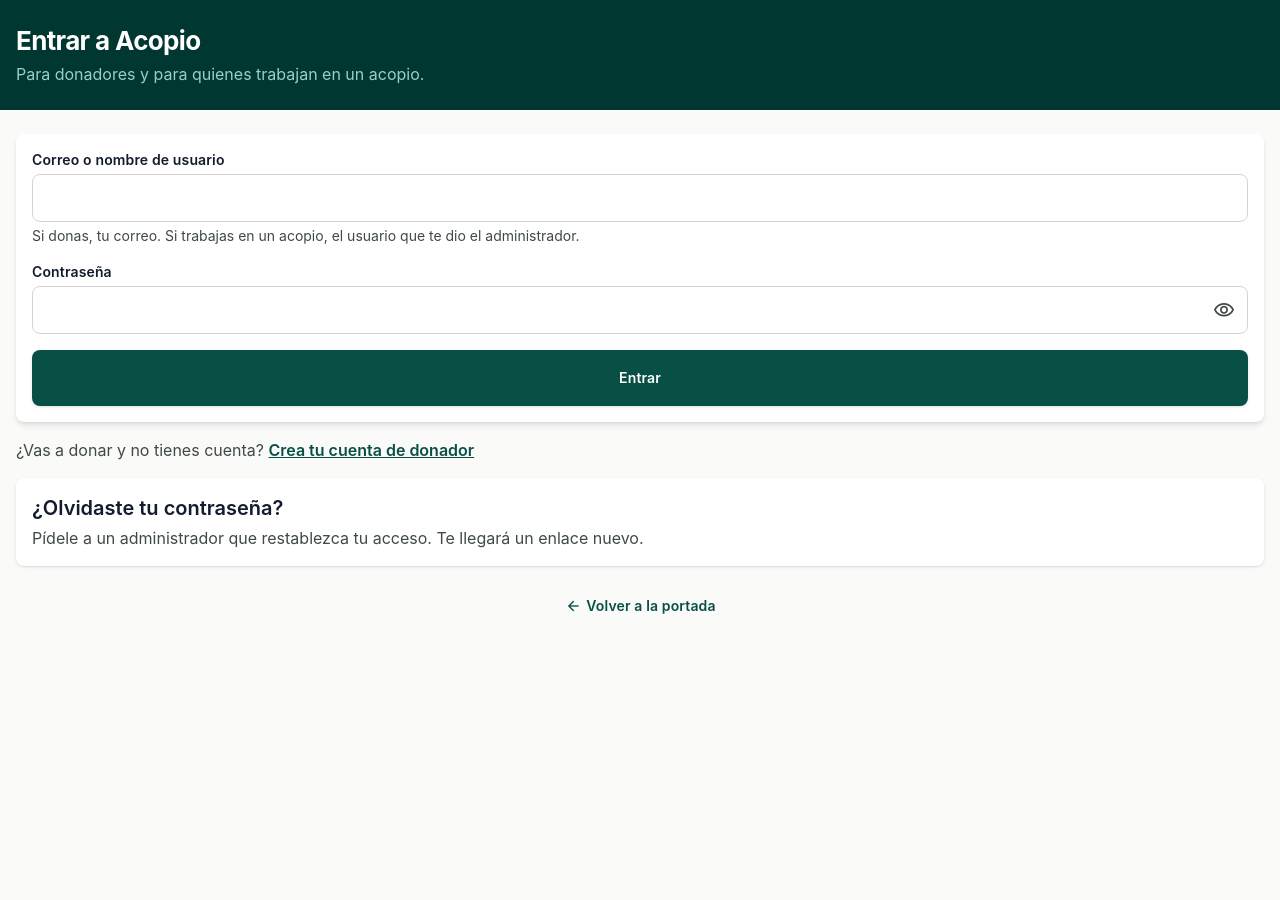
Test: con demasiados intentos muestra el mensaje de la API
Type "x" into the field labelled "Correo o nombre de usuario" at [640, 198], box x1=32 y1=174 x2=1248 y2=222
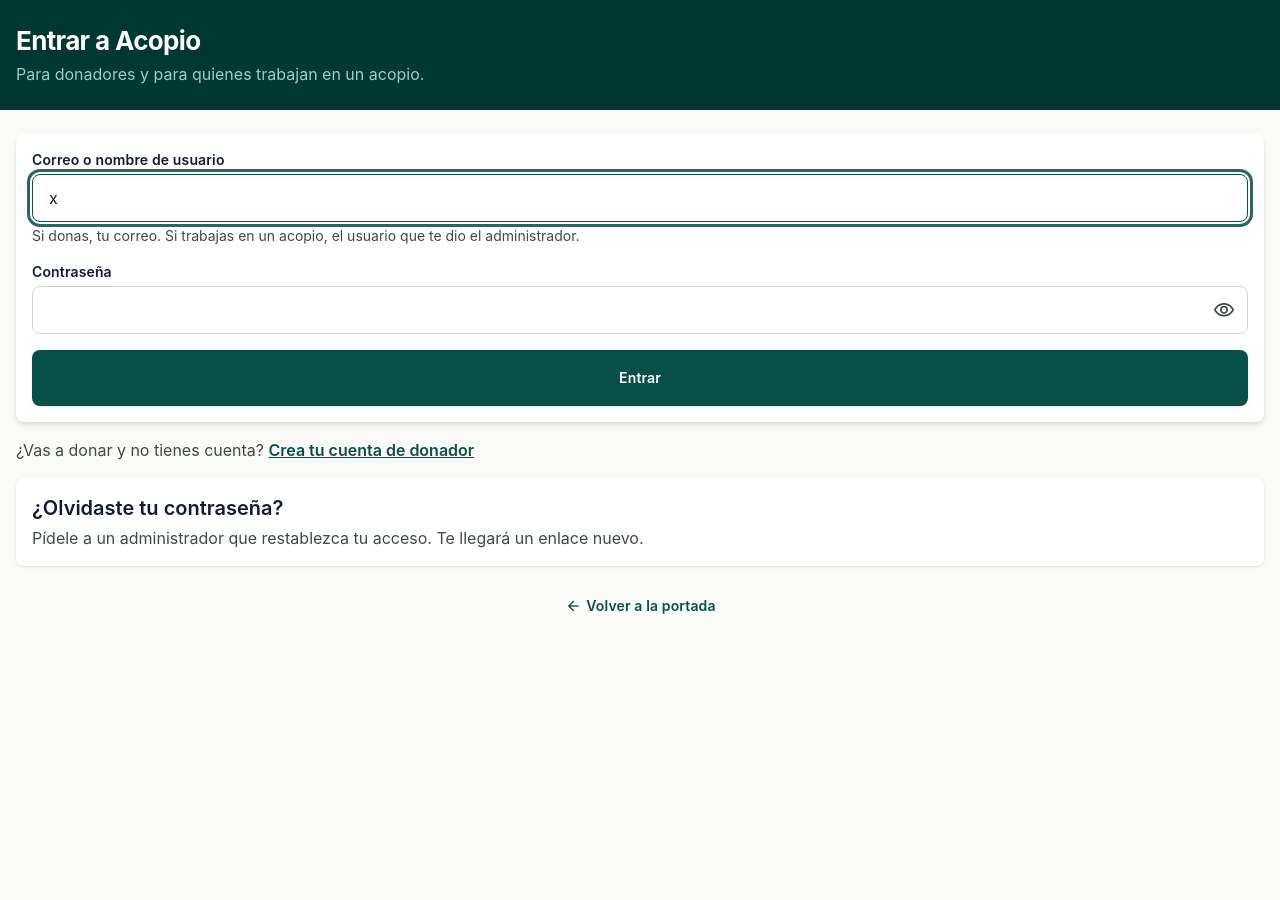
Type "y" into the password field labelled "Contraseña" at [640, 310], box x1=32 y1=286 x2=1248 y2=334
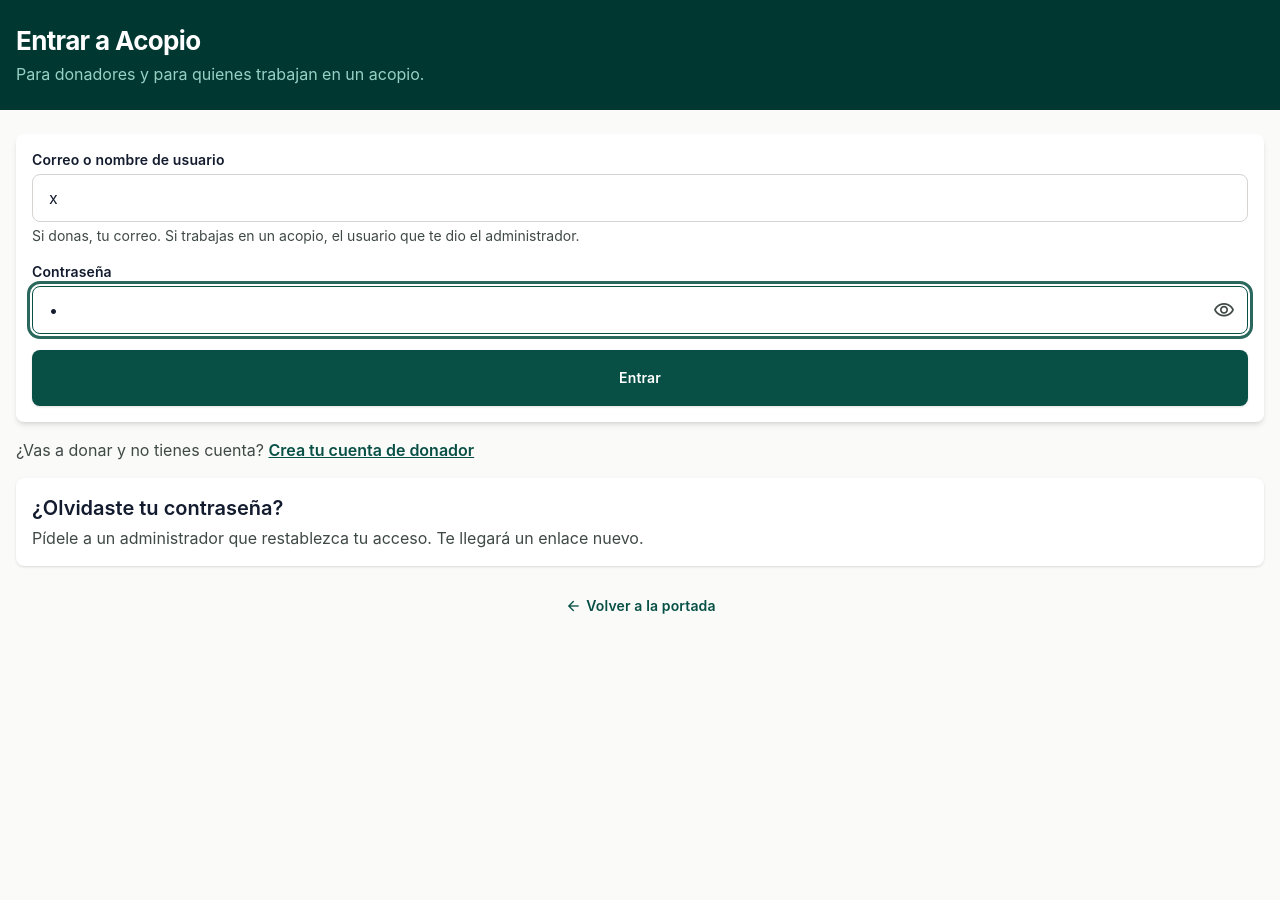
Click the button "Entrar" at [640, 378], box x1=32 y1=350 x2=1248 y2=406
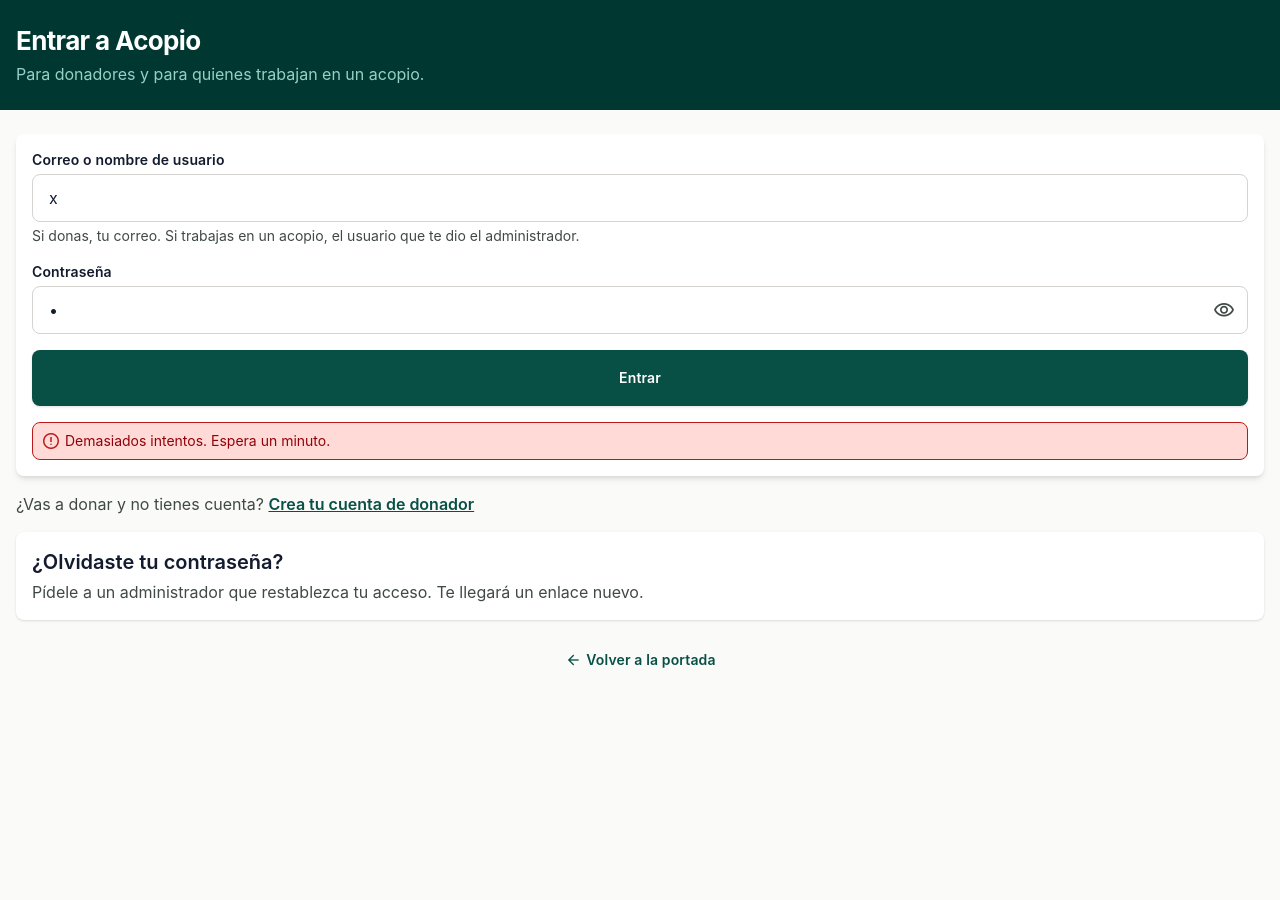
Check: the message reads "Demasiados intentos. Espera un minuto.", box x1=65 y1=432 x2=330 y2=449
